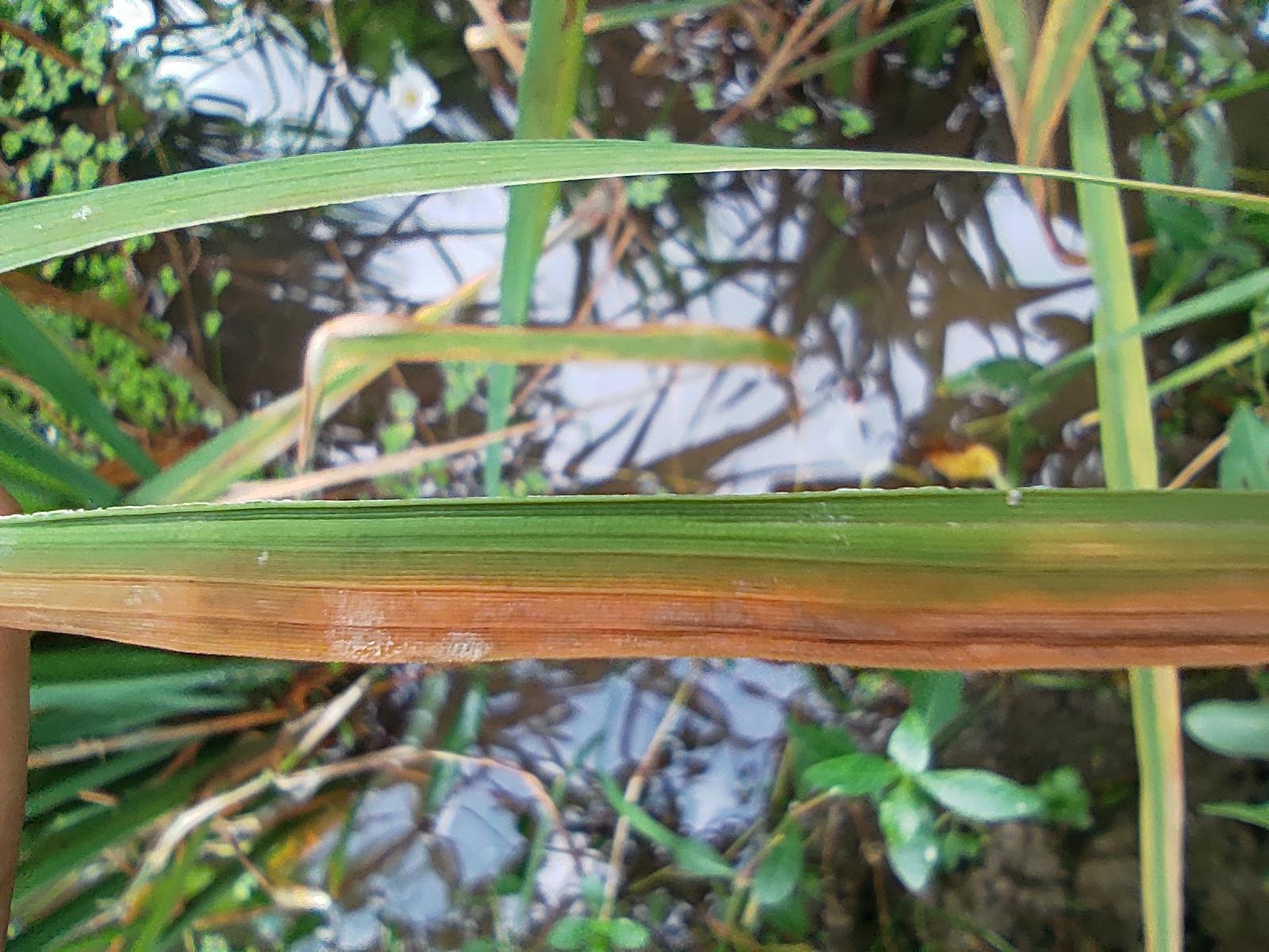BLB: (378, 1, 505, 951)
LEAF: (375, 0, 615, 951)
